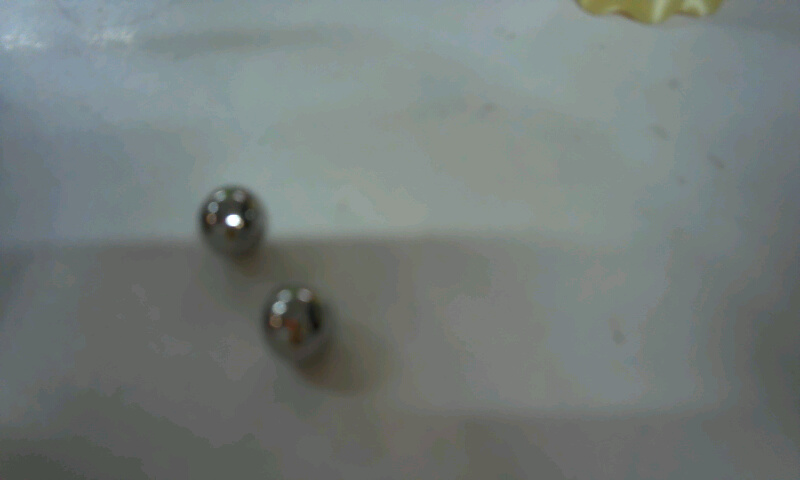steelball: (257, 278, 356, 379), (189, 179, 288, 272)
